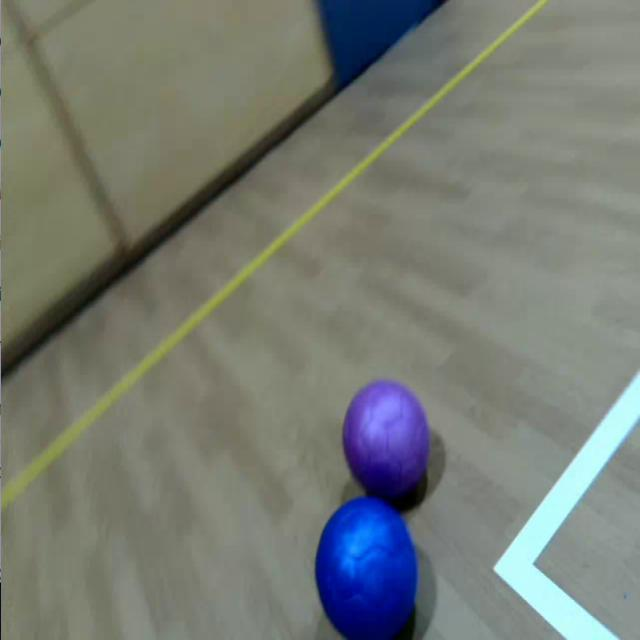blue_ball: (314, 495, 419, 640)
purple_ball: (341, 378, 434, 496)
